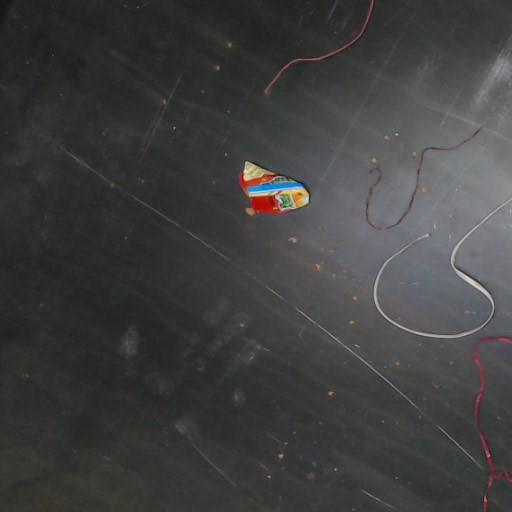conveyor belt: (0, 0, 511, 511), (480, 343, 511, 473), (490, 479, 511, 511)
packet: (239, 161, 309, 214)
thread: (373, 197, 511, 338), (365, 127, 481, 230), (264, 0, 374, 93), (472, 335, 511, 511)
